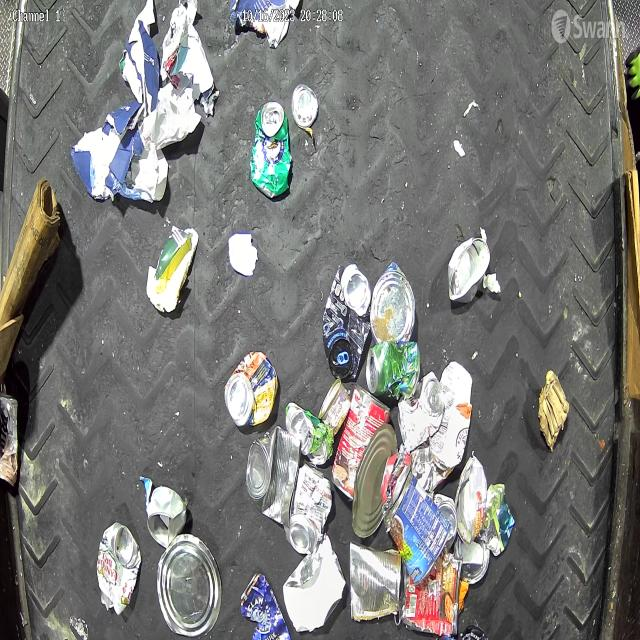can: (382, 472, 450, 588), (155, 532, 222, 639), (332, 386, 392, 502), (322, 263, 372, 379), (246, 426, 302, 528), (352, 425, 398, 538), (401, 554, 462, 636), (349, 540, 402, 623), (96, 521, 142, 615), (284, 464, 332, 554), (224, 351, 278, 427), (250, 100, 291, 198), (396, 371, 444, 453), (370, 262, 416, 342), (239, 570, 290, 640), (364, 340, 419, 400), (447, 232, 491, 302), (285, 402, 333, 466), (454, 455, 486, 546), (146, 488, 187, 549), (318, 379, 352, 436), (454, 536, 490, 586), (0, 393, 19, 486), (434, 493, 456, 551), (292, 84, 318, 128)
